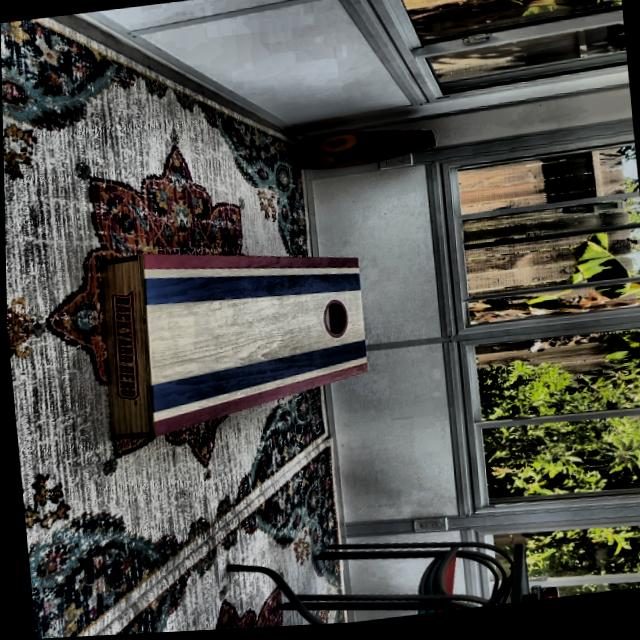board: (136, 252, 368, 408)
hole: (319, 299, 351, 343)
